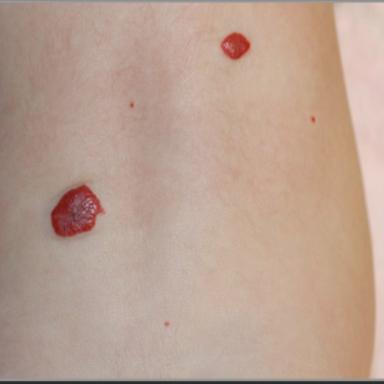Hemangiome: (51, 185, 103, 236), (221, 33, 250, 59)
